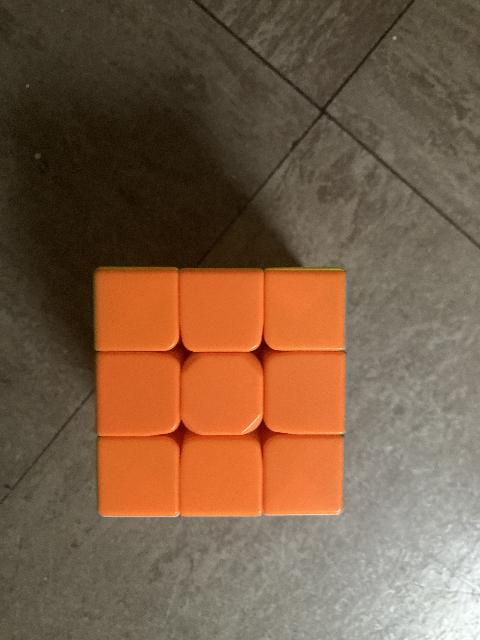Orange: (96, 268, 176, 348), (185, 358, 263, 434), (185, 439, 263, 515), (268, 272, 344, 348), (100, 356, 176, 432), (100, 438, 176, 514), (184, 272, 262, 346), (269, 438, 339, 512), (268, 359, 342, 428)
